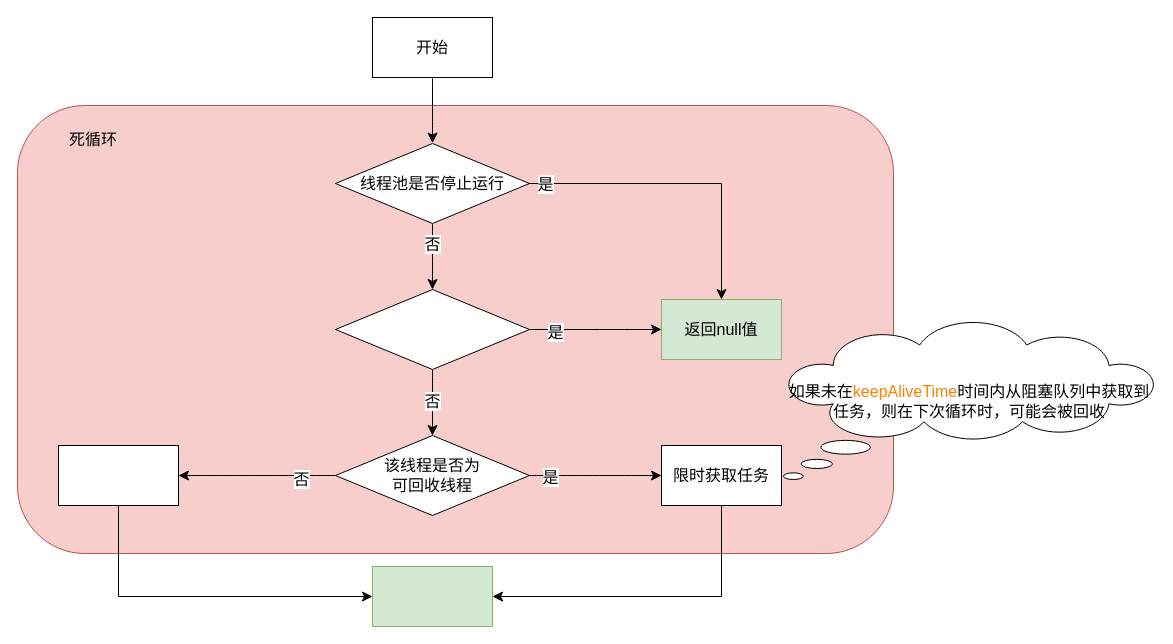
The diagram is 1173 pixels wide and 644 high, and some of its shapes have lost their labels. Each missing label, with the centre of its shape:
线程数太多: the point at 432,329
结束: the point at 432,596
阻塞式获取任务: the point at 118,475
